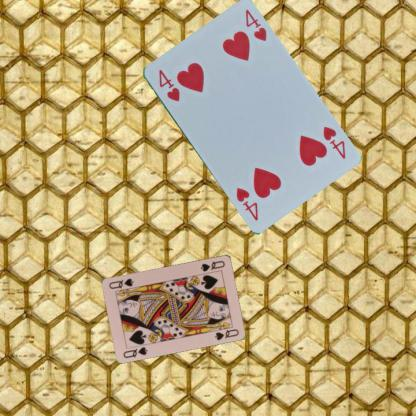4h: (320, 123, 347, 161), (155, 66, 181, 104)
Qs: (121, 344, 149, 359), (198, 258, 226, 272)
